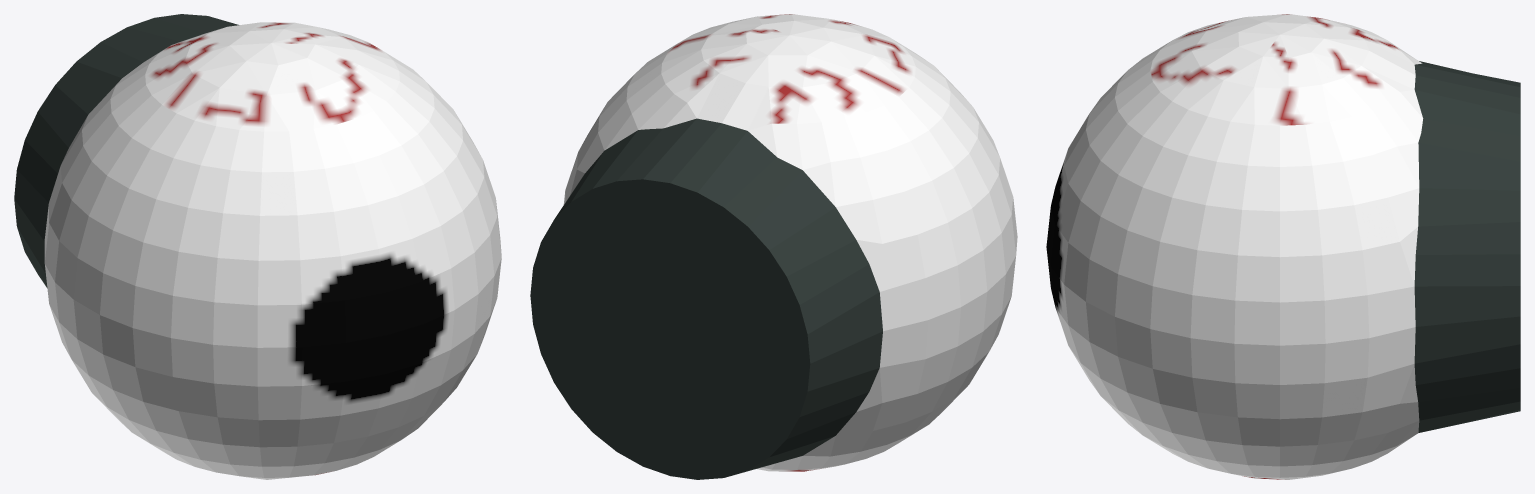
Rendered from Eye.fbx.
3 renders of one model, left to right at view 1: azimuth 30°, elevation 25°; view 2: azimuth 150°, elevation 25°; view 3: azimuth 270°, elevation 25°, orthographic.
Visible parts, largest first — view 1: Eye; view 2: Eye; view 3: Eye.
Part boxes in pixels (x1=…): Eye: x1=14, y1=14, x2=501, y2=479; Eye: x1=530, y1=14, x2=1017, y2=479; Eye: x1=1046, y1=14, x2=1520, y2=479.
Bounding box in the file's own units: 200 × 200 × 203.
